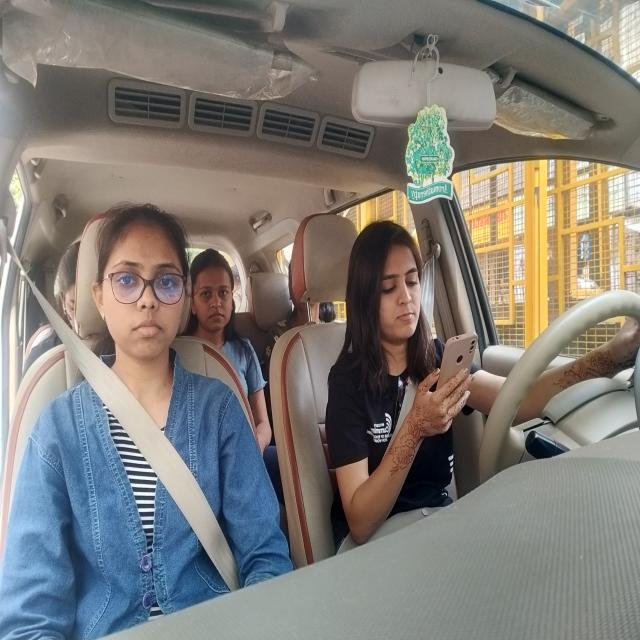mobile: (442, 325, 482, 438)
person: (89, 196, 192, 398), (347, 216, 432, 370), (196, 244, 247, 366), (44, 238, 82, 362)
